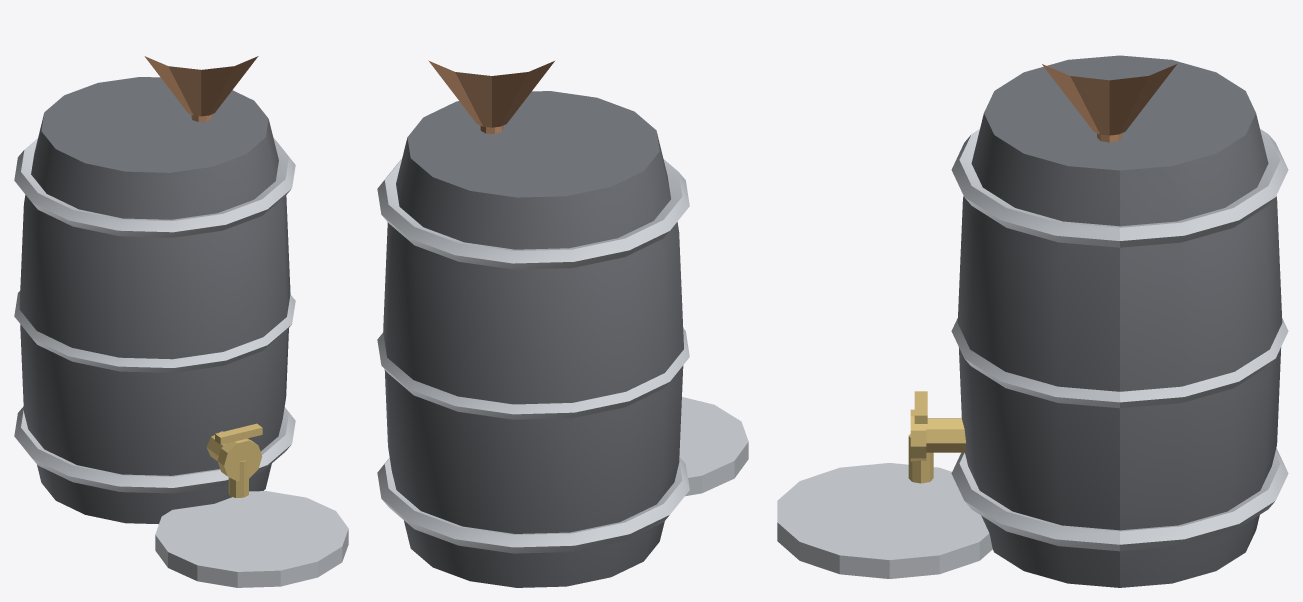
The model's file is steampunk-airship-dock-and-workshop-oil-barrel-7d02438a__36096.glb.
The picture shows the model from 3 angles, left to right: view 1: azimuth 30°, elevation 25°; view 2: azimuth 150°, elevation 25°; view 3: azimuth 270°, elevation 25°; orthographic projection. The views are drawn at different scales.
Parts seen in each view (by area): view 1: oil-barrel; view 2: oil-barrel; view 3: oil-barrel.
Boxes of the visible parts, bbox=[...] form: oil-barrel: bbox=[14, 56, 348, 587]; oil-barrel: bbox=[377, 60, 748, 587]; oil-barrel: bbox=[777, 55, 1288, 587].
Size of the model in its own units: 0.644 by 1.07 by 0.9765.
